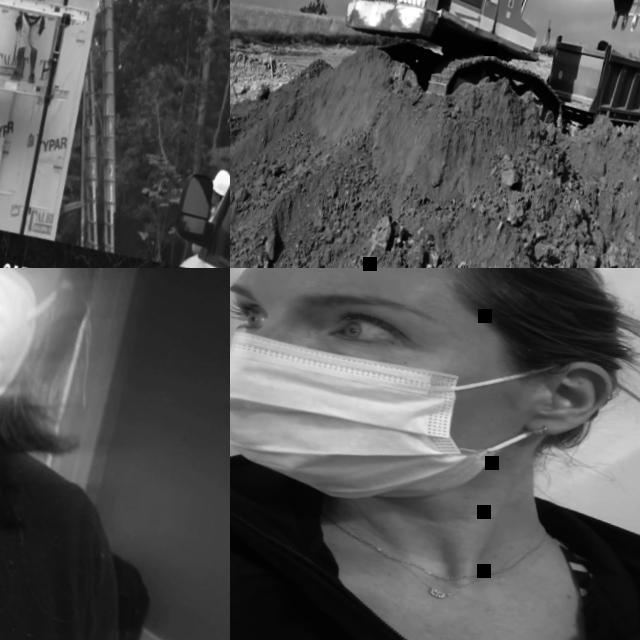Hardhat: (208, 168, 230, 197)
Mask: (230, 287, 564, 539)
NO-Hardhat: (251, 268, 632, 341)
NO-Mask: (208, 196, 216, 207)
NO-Safety Vest: (230, 438, 640, 640), (0, 340, 129, 640)
Person: (230, 268, 640, 640), (0, 268, 230, 640), (0, 0, 62, 84), (187, 166, 230, 257)
machinery: (327, 0, 640, 144), (535, 19, 640, 157)
vehicle: (161, 46, 230, 268)
